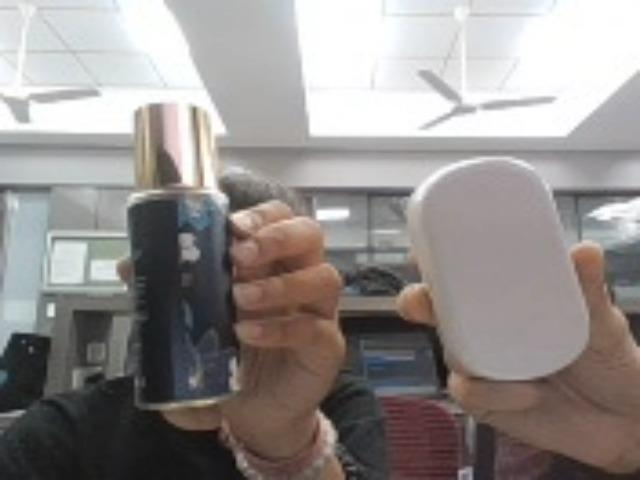box: (373, 142, 610, 366)
cube: (106, 93, 279, 414)
